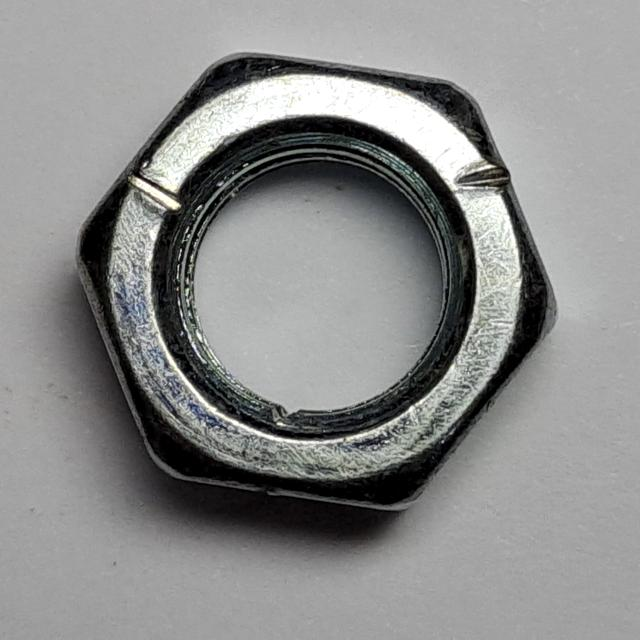Scratches: (66, 45, 566, 527)
